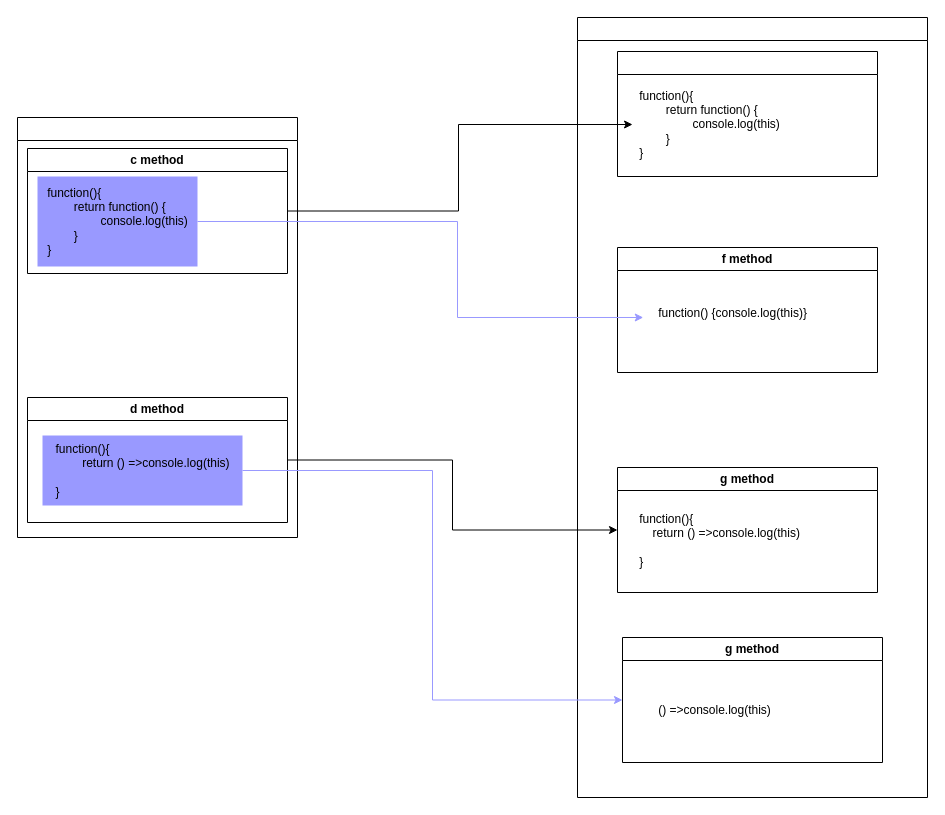
Some shapes in this 945 by 815 pixel diagram are drawn without their labels. The shapes that lost their labels are listed below. From the top down, each one's box as (x1, y1, x2, y2) in pixels, then its label:
(616, 50, 878, 176): e method
(16, 116, 298, 538): A Object's methods
(576, 16, 928, 798): B Object's methods
